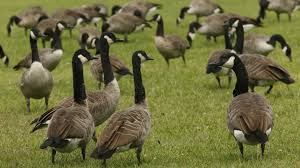goose: (26, 31, 121, 136), (92, 49, 157, 168), (205, 51, 274, 159), (41, 45, 100, 165), (225, 17, 294, 91), (13, 18, 71, 73), (19, 28, 53, 114), (235, 28, 295, 66), (183, 13, 265, 40), (148, 12, 188, 67), (205, 18, 231, 93), (173, 1, 226, 27), (5, 5, 47, 31), (108, 1, 165, 19), (252, 1, 300, 22), (76, 23, 114, 48), (37, 6, 89, 23), (1, 40, 13, 69)
